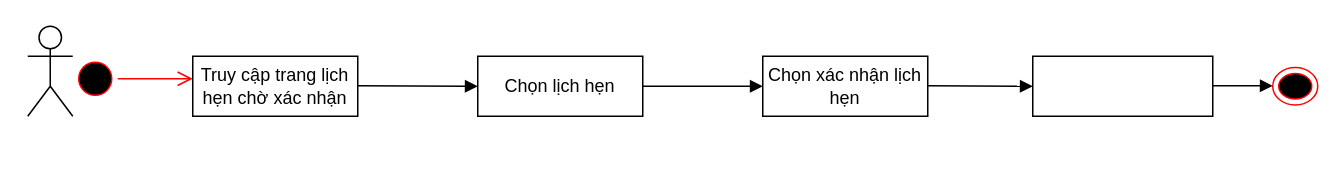
Image size: 1344x174. Some labels were removed from this diagram. The shapes that lost their labels are listed below. From the top down, each one's box as (x1, y1, x2, y2) in pixels, then its label:
(26, 25, 73, 116): Bác sĩ
(1031, 55, 1213, 116): Xác nhận lịch hẹn thành công
